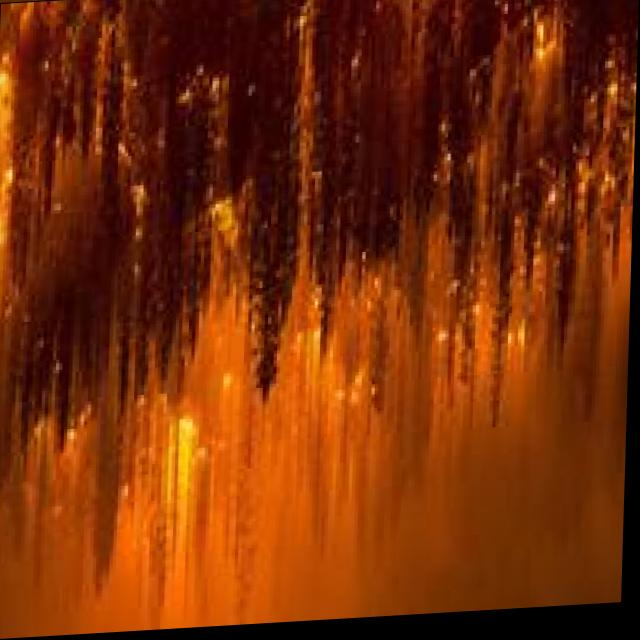fire: (0, 0, 640, 640)
